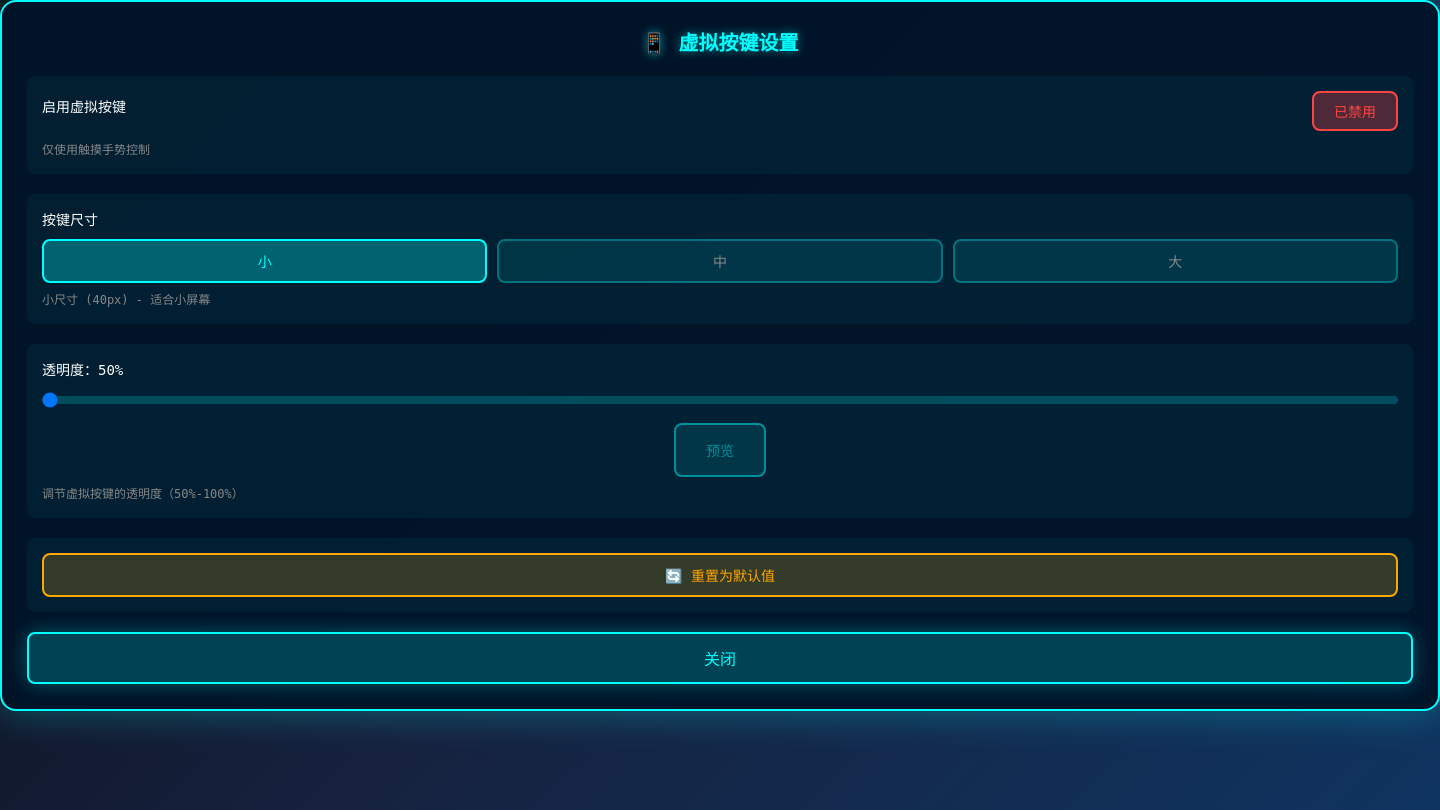
Scenario: MobileControlsSettingsPanel › 点击重置按钮恢复默认设置
Click the button "🔄 重置为默认值".
click(720, 575)  # box [42,553,1398,597]
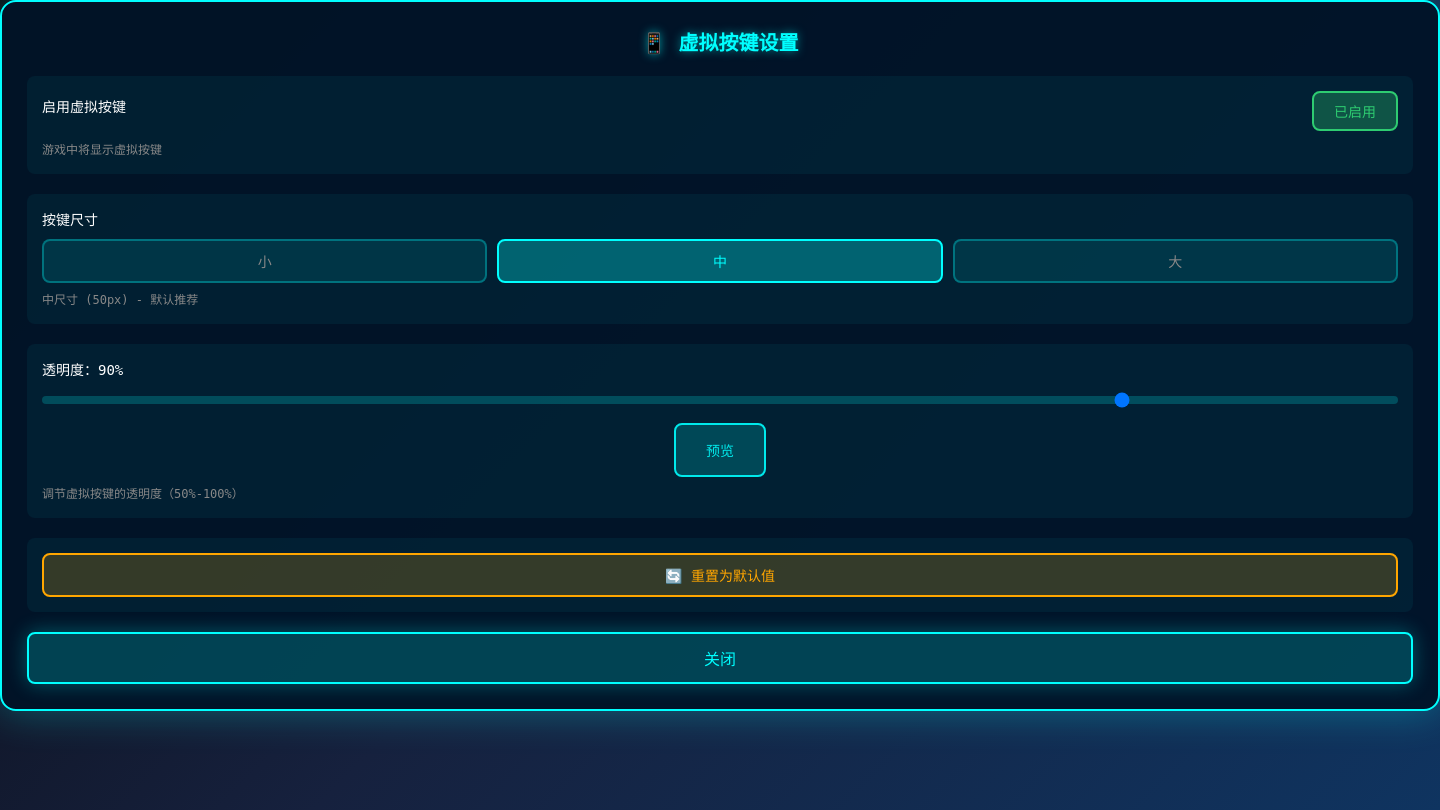
Result: the button "已启用" is shown at [1312,91,1398,131]
